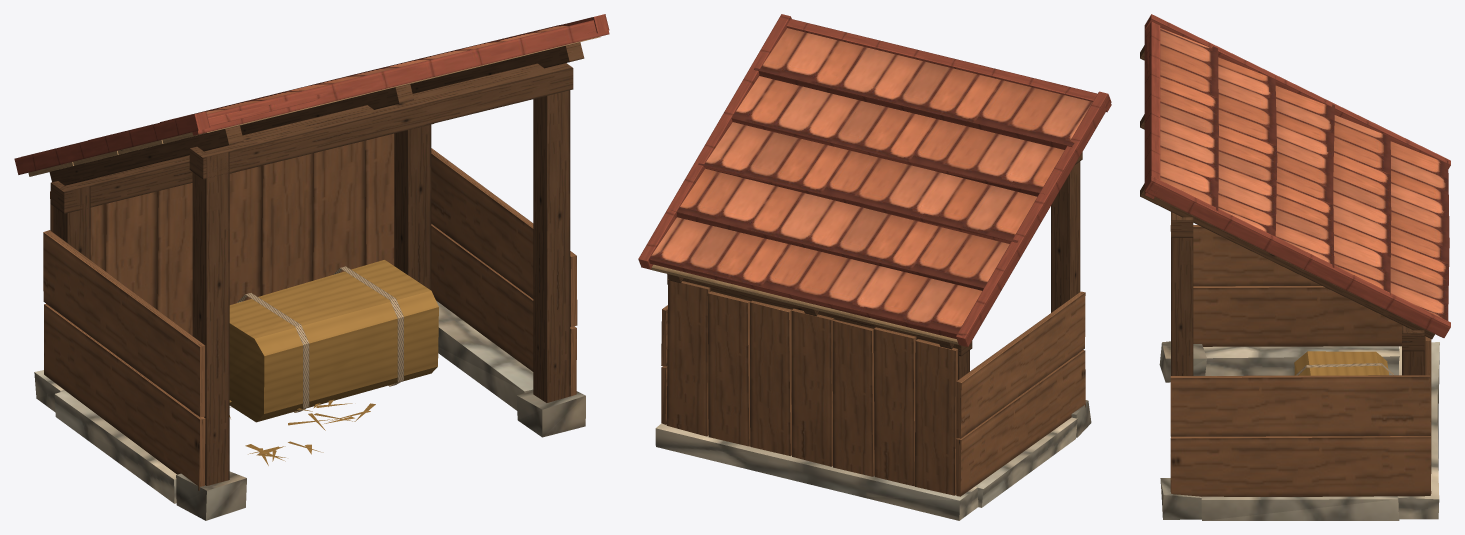
The model's file is shelter.glb.
3 renders of one model, left to right at view 1: azimuth 30°, elevation 25°; view 2: azimuth 150°, elevation 25°; view 3: azimuth 270°, elevation 25°, orthographic. The views are drawn at different scales.
Visible parts, largest first — view 1: shelter; view 2: shelter; view 3: shelter.
Part boxes in pixels (x1,y1,x2,y2): shelter: (14, 14, 609, 520); shelter: (638, 14, 1111, 520); shelter: (1140, 14, 1450, 520).
Size of the model in its own units: 1.4 by 1.35 by 1.1.
1 material, 1 textured.
